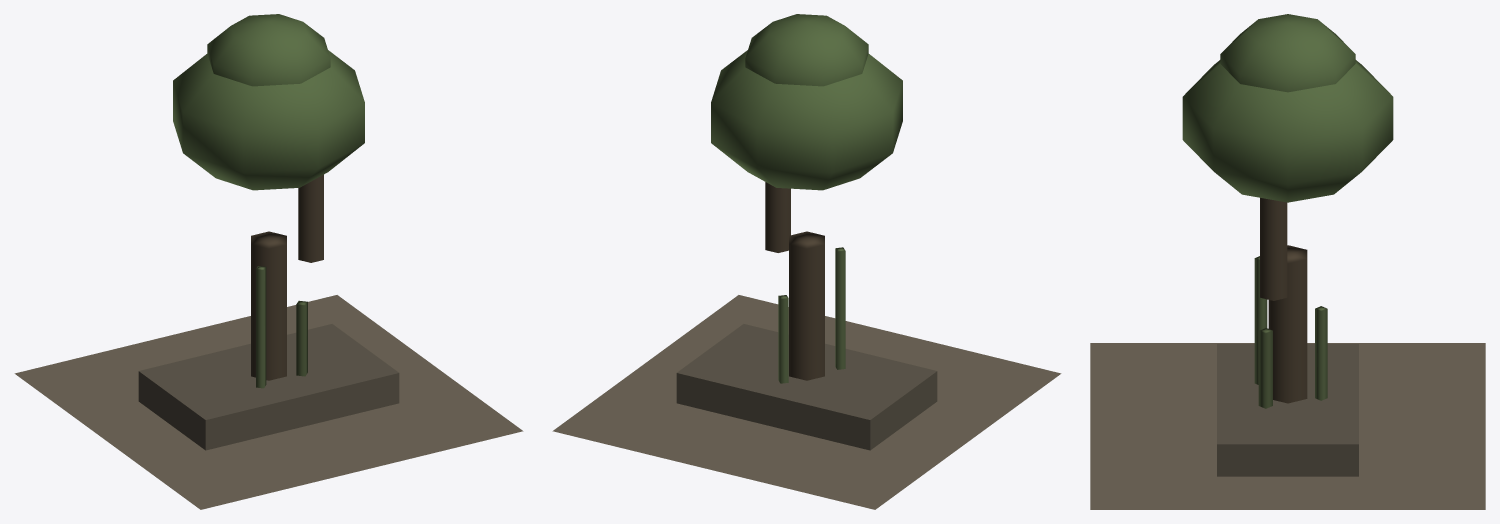
The model's file is topo_wetland_water.glb.
3 renders of one model, left to right at view 1: azimuth 30°, elevation 25°; view 2: azimuth 150°, elevation 25°; view 3: azimuth 270°, elevation 25°, orthographic. The views are drawn at different scales.
Visible parts, largest first — view 1: ground_mud_a, landmark_drowned_tree, height_bank, height_reed_bed; view 2: ground_mud_a, landmark_drowned_tree, height_bank, height_reed_bed; view 3: ground_mud_a, landmark_drowned_tree, height_bank, height_reed_bed.
Part boxes in pixels (box(x1,y1,x2,y2)): ground_mud_a: box(14, 295, 523, 509); landmark_drowned_tree: box(173, 14, 364, 380); height_bank: box(138, 324, 399, 450); height_reed_bed: box(256, 266, 307, 388); ground_mud_a: box(552, 295, 1061, 509); landmark_drowned_tree: box(711, 14, 902, 380); height_bank: box(676, 324, 937, 450); height_reed_bed: box(778, 247, 845, 383); ground_mud_a: box(1090, 343, 1485, 509); landmark_drowned_tree: box(1182, 14, 1393, 403); height_bank: box(1217, 344, 1358, 476); height_reed_bed: box(1254, 256, 1327, 408).
Size of the model in its own units: 5 by 5.66 by 5.
